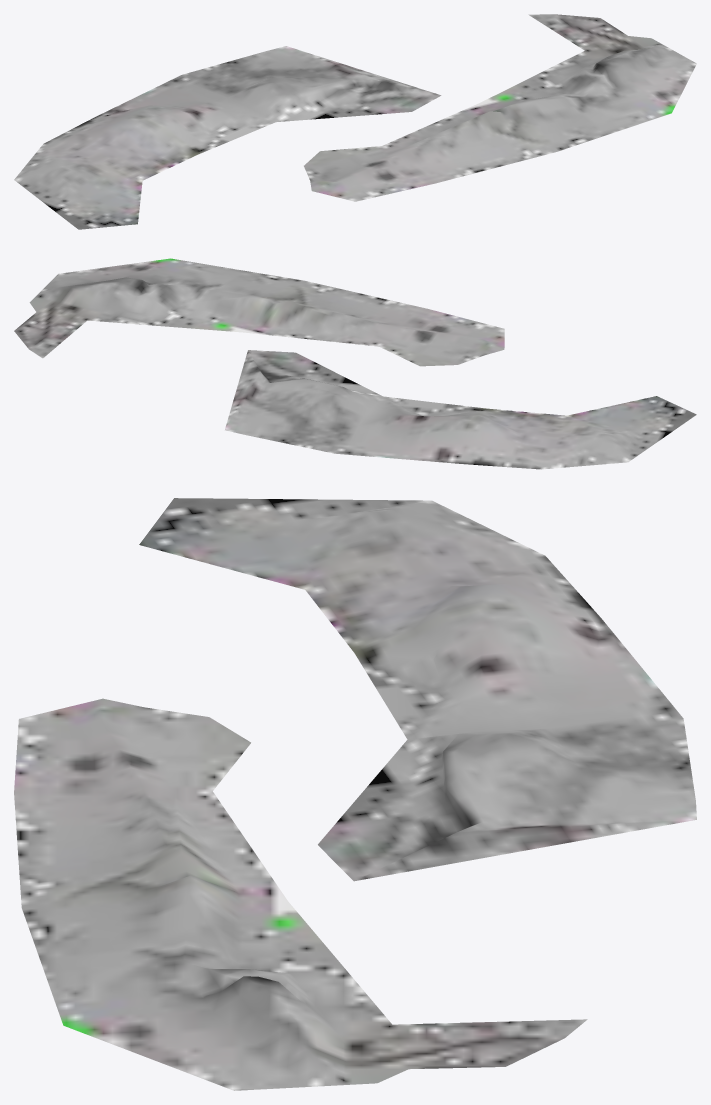
Rendered from bloody_rags_b.glb.
3 views of the same model, one above another, from view 1: azimuth 30°, elevation 25°; view 2: azimuth 150°, elevation 25°; view 3: azimuth 270°, elevation 25° (orthographic). The views are drawn at different scales.
Visible parts, largest first — view 1: dirty_rag_b_lod0; view 2: dirty_rag_b_lod0; view 3: dirty_rag_b_lod0.
Part boxes in pixels (left/top/right/bottom): dirty_rag_b_lod0: left=14, top=14, right=696, bottom=229; dirty_rag_b_lod0: left=14, top=258, right=696, bottom=469; dirty_rag_b_lod0: left=14, top=498, right=696, bottom=1090.
Bounding box in the file's own units: 0.9561 × 0.0267 × 0.4656.
1 material, 1 textured.
